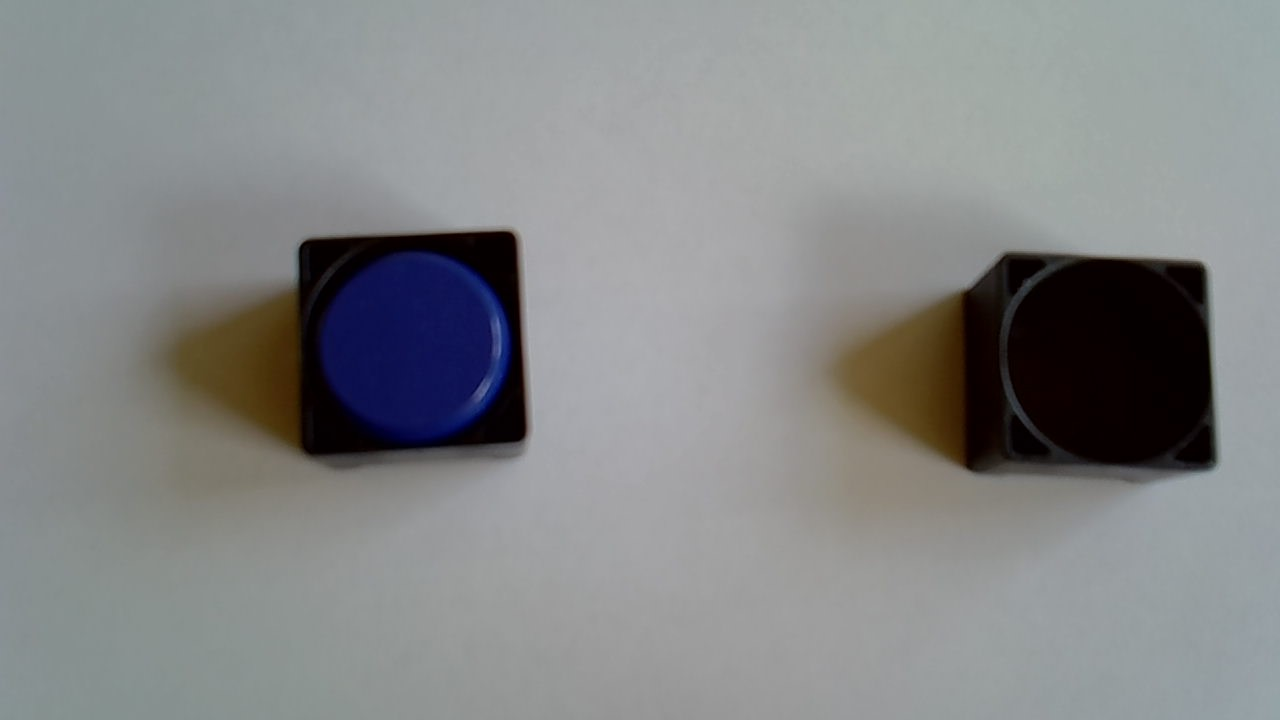Behaelter: (958, 253, 1219, 488), (293, 225, 533, 469)
WerkStueck: (312, 250, 515, 443)
